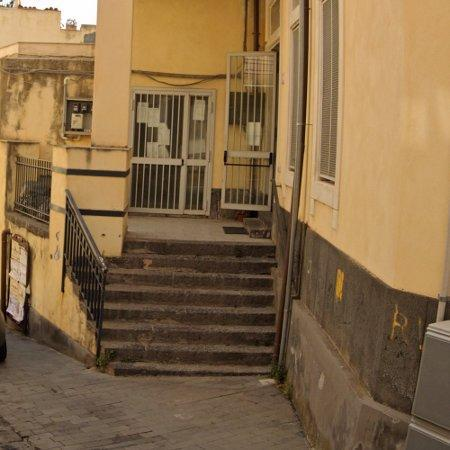stairs: (102, 241, 277, 377)
